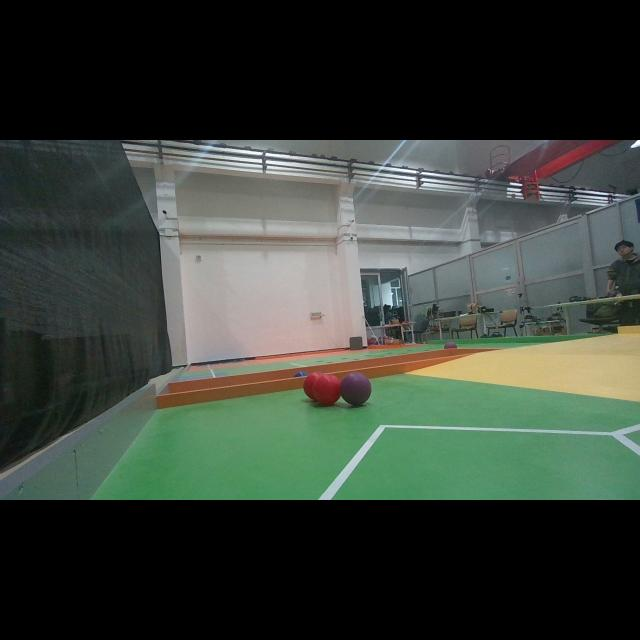P: (341, 372, 372, 406)
R: (312, 374, 341, 404)
